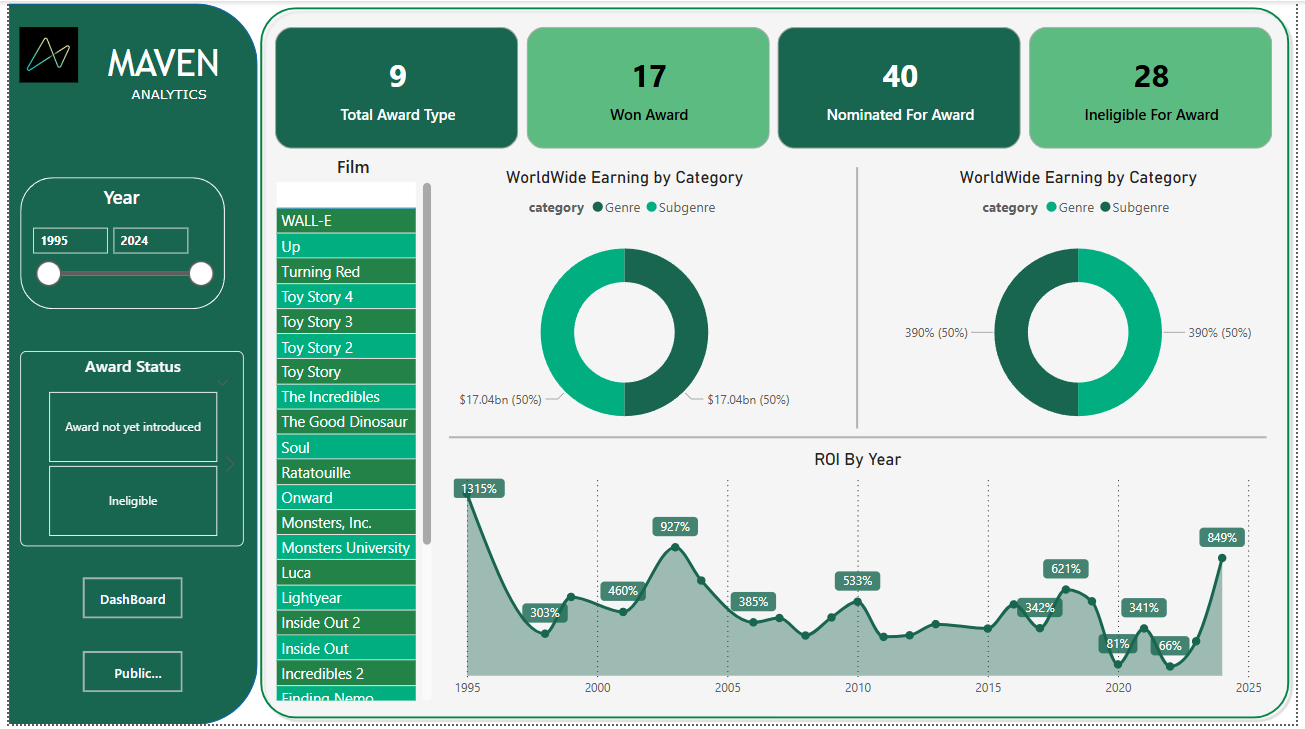

What the dashboard file says about the page in this screenshot:
{"tool":"powerbi","page":{"name":"Awards","canvas":[1280,720],"ordinal":2},"visuals":[{"type":"group","id":"g1","title":"Public  Reaction","box":[0,0,1280,720.3],"z":0},{"type":"shape","box":[243.6,0,1036.5,720.3],"z":0,"group":"g1"},{"type":"shape","box":[0,2.5,247.5,717.8],"z":0,"group":"g2"},{"type":"shape","box":[11,175.5,203.7,131.3],"z":0,"group":"g3"},{"type":"group","id":"g2","title":"Heading And Shape","box":[0,2.5,247.5,717.8],"z":1000,"group":"g1"},{"type":"image","box":[0,21.7,79.1,65.2],"z":1000,"group":"g2"},{"type":"group","id":"g3","title":"slicer 1","box":[11,175.5,203.7,139.9],"z":1000},{"type":"slicer","title":"Year","fields":{"Values":["pixar_films.Year_income"]},"box":[11,181.6,201.2,133.7],"z":1000,"group":"g3"},{"type":"cardVisual","fields":{"Data":["Count(academy.award_type)","Measures 2.Won_award","Measures 2.Nominated_","Measures 2.Ineligible_"]},"box":[260.1,21.1,1004.7,131.9],"z":2000,"group":"g1"},{"type":"textbox","box":[79.1,35,159.7,85.2],"z":2000,"group":"g2"},{"type":"slicer","title":"Award Status","fields":{"Values":["academy.status"]},"box":[11.2,348.3,222.7,194.1],"z":2000},{"type":"tableEx","title":"Film","fields":{"Values":["academy.film"]},"box":[260,153,165.4,548.6],"z":3000,"group":"g1"},{"type":"donutChart","title":"WorldWide Earning by Category","fields":{"Category":["genres.category"],"Y":["Measures 1.Total_Earning_world"]},"box":[425.4,165.4,374.4,279.9],"z":3000},{"type":"donutChart","title":"WorldWide Earning by Category","fields":{"Category":["genres.category"],"Y":["Measures 1.Roi film"]},"box":[877,165.4,374.4,279.9],"z":4000},{"type":"shape","box":[437.9,422.9,813.5,22.4],"z":4000,"group":"g1"},{"type":"shape","box":[826,165.4,36.1,260],"z":5000},{"type":"lineChart","title":"ROI By Year","fields":{"Category":["pixar_films.Year_income"],"Y":["Measures 1.Roi film"]},"box":[437.9,445.3,813.5,256.3],"z":6000},{"type":"actionButton","box":[73.4,646.9,99.5,41.1],"z":7000},{"type":"actionButton","box":[73.4,573.5,99.5,41.1],"z":8000}]}

Visuals, with their boxes in screenshot pixels (x1, y1, x2, y2), scaled from the page's 1280x720 canvas onto the 1305x729 screenshot:
"Public  Reaction" group: x1=0, y1=0, x2=1304, y2=728
shape: x1=248, y1=0, x2=1304, y2=728
shape: x1=0, y1=3, x2=252, y2=728
shape: x1=11, y1=178, x2=219, y2=311
"Heading And Shape" group: x1=0, y1=3, x2=252, y2=728
image: x1=0, y1=22, x2=81, y2=88
"slicer 1" group: x1=11, y1=178, x2=219, y2=319
"Year" slicer: x1=11, y1=184, x2=216, y2=319
cardVisual - Count(academy.award_type) x Measures 2.Won_award: x1=265, y1=21, x2=1290, y2=155
textbox: x1=81, y1=35, x2=243, y2=122
"Award Status" slicer: x1=11, y1=353, x2=238, y2=549
"Film" tableEx: x1=265, y1=155, x2=434, y2=710
"WorldWide Earning by Category" donutChart: x1=434, y1=167, x2=815, y2=451
"WorldWide Earning by Category" donutChart: x1=894, y1=167, x2=1276, y2=451
shape: x1=446, y1=428, x2=1276, y2=451
shape: x1=842, y1=167, x2=879, y2=431
"ROI By Year" lineChart: x1=446, y1=451, x2=1276, y2=710
actionButton: x1=75, y1=655, x2=176, y2=697
actionButton: x1=75, y1=581, x2=176, y2=622
